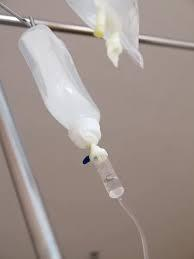Iv_Bottle: (19, 25, 100, 147)
